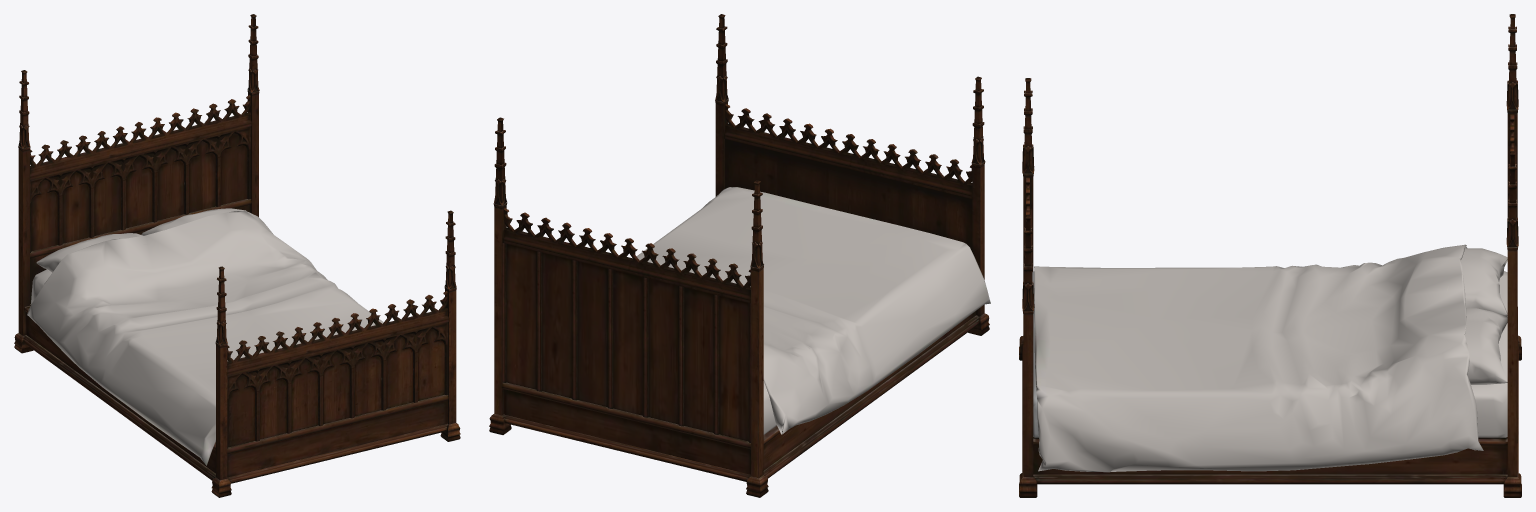
The model's file is GothicBed_01.glb.
3 renders of one model, left to right at view 1: azimuth 30°, elevation 25°; view 2: azimuth 150°, elevation 25°; view 3: azimuth 270°, elevation 25°, orthographic. The views are drawn at different scales.
Visible parts, largest first — view 1: GothicBed_01; view 2: GothicBed_01; view 3: GothicBed_01.
Boxes of the visible parts, x1=… form: GothicBed_01: x1=14, y1=14, x2=460, y2=497; GothicBed_01: x1=489, y1=14, x2=990, y2=497; GothicBed_01: x1=1019, y1=14, x2=1521, y2=497.
Size of the model in its own units: 1.49 by 1.53 by 2.04.
Materials: 1 (1 with a texture image).
